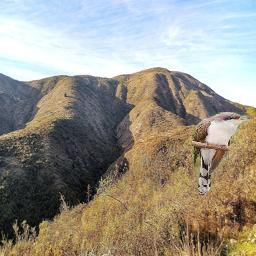Cuckoo: (193, 113, 252, 196)
